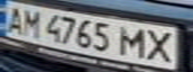4: (39, 11, 63, 43)
5: (90, 20, 118, 54)
6: (72, 17, 96, 50)
7: (54, 15, 75, 46)
A: (0, 2, 27, 34)
M: (115, 24, 151, 58), (18, 7, 45, 38)
X: (142, 27, 181, 63)
